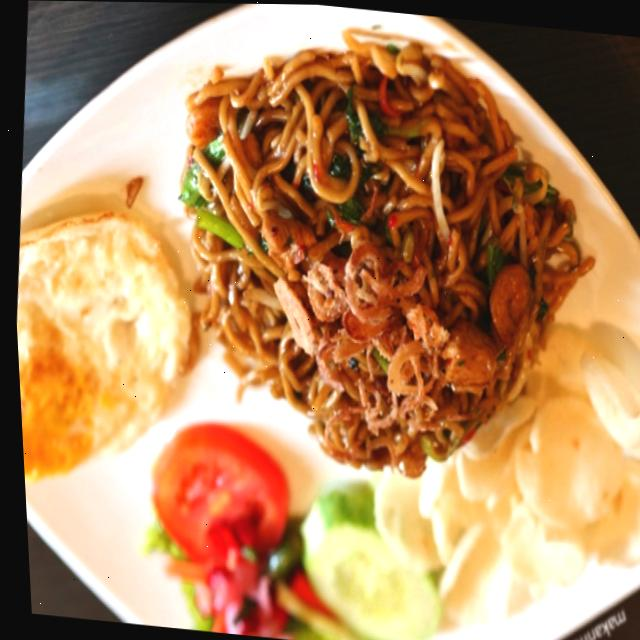面条主食: (0, 3, 640, 640)
